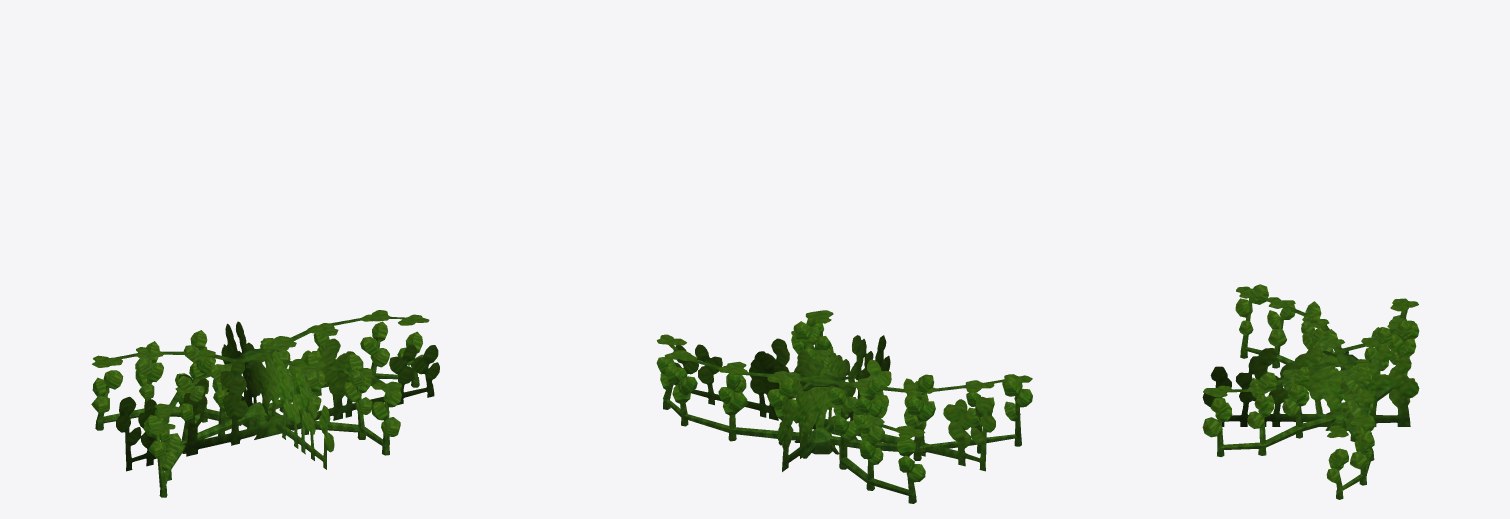
The model's file is Alga-04-Uvas-do-Mar.glb.
The picture shows the model from 3 angles, left to right: view 1: azimuth 30°, elevation 25°; view 2: azimuth 150°, elevation 25°; view 3: azimuth 270°, elevation 25°; orthographic projection. The views are drawn at different scales.
Visible parts, largest first — view 1: Alga-04-Uvas-do-Mar impostor, Colonia; view 2: Alga-04-Uvas-do-Mar impostor, Colonia; view 3: Colonia, Alga-04-Uvas-do-Mar impostor.
Boxes of the visible parts, x1,y1,x2,y2 form: Alga-04-Uvas-do-Mar impostor: (92,310,439,471); Colonia: (91,321,423,497); Alga-04-Uvas-do-Mar impostor: (657,310,1032,471); Colonia: (656,318,1032,503); Colonia: (1202,284,1419,499); Alga-04-Uvas-do-Mar impostor: (1202,286,1419,437).
Size of what is drawn, in the model's own units: 1.09 by 1.09 by 1.09.
2 materials, 2 textured.
